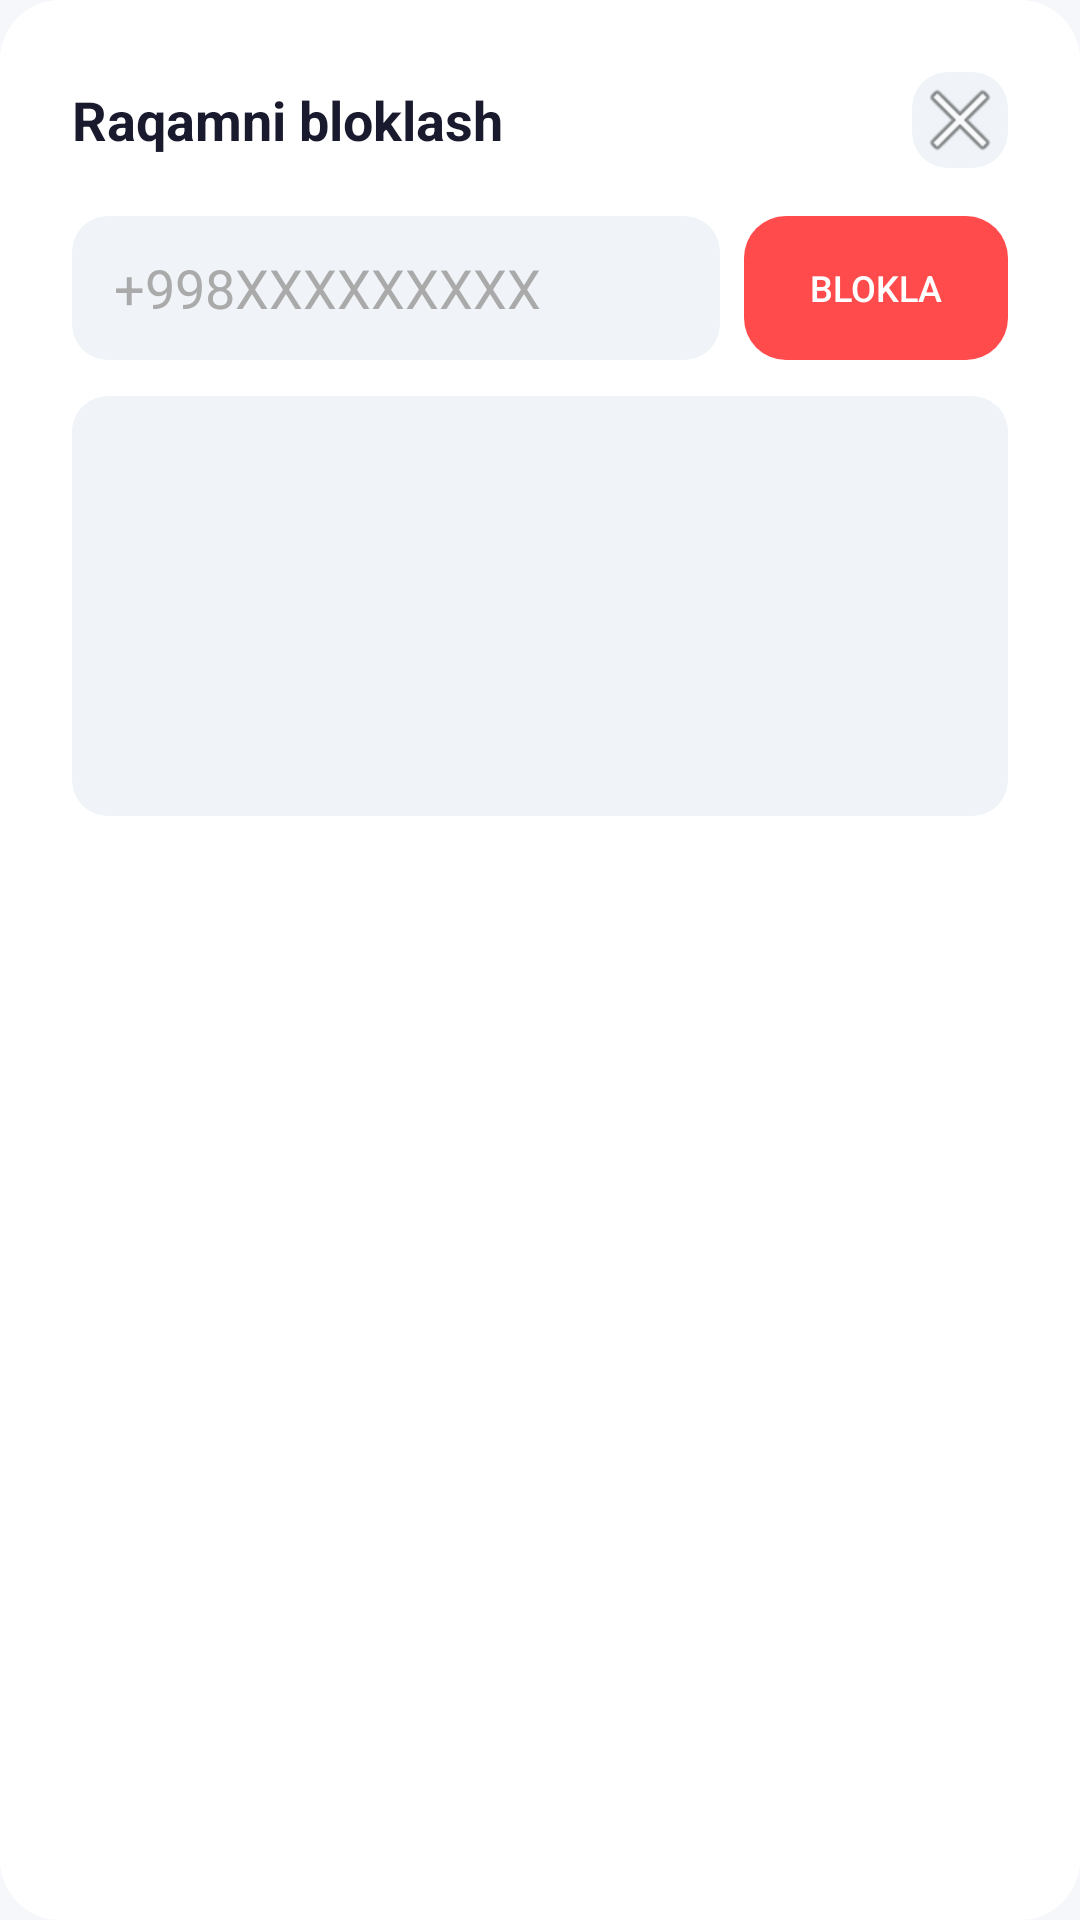

Where icons sit on this 1080 x 1920 app screen, as (x1, y1, x2, y2):
close clear cancel: (912, 72, 1008, 168)
